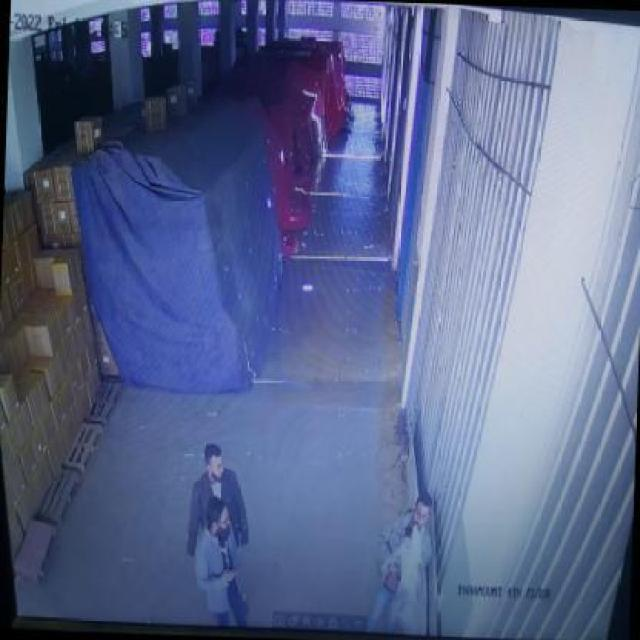fire: (390, 514, 432, 608)
